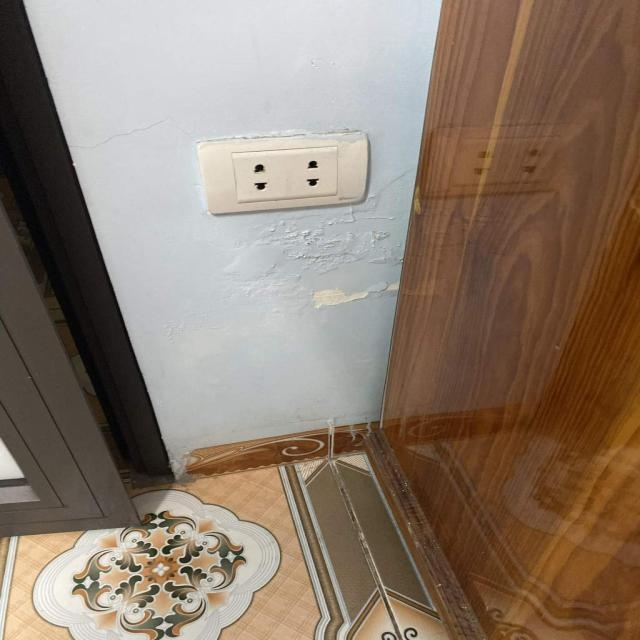outlet: (197, 129, 370, 215)
